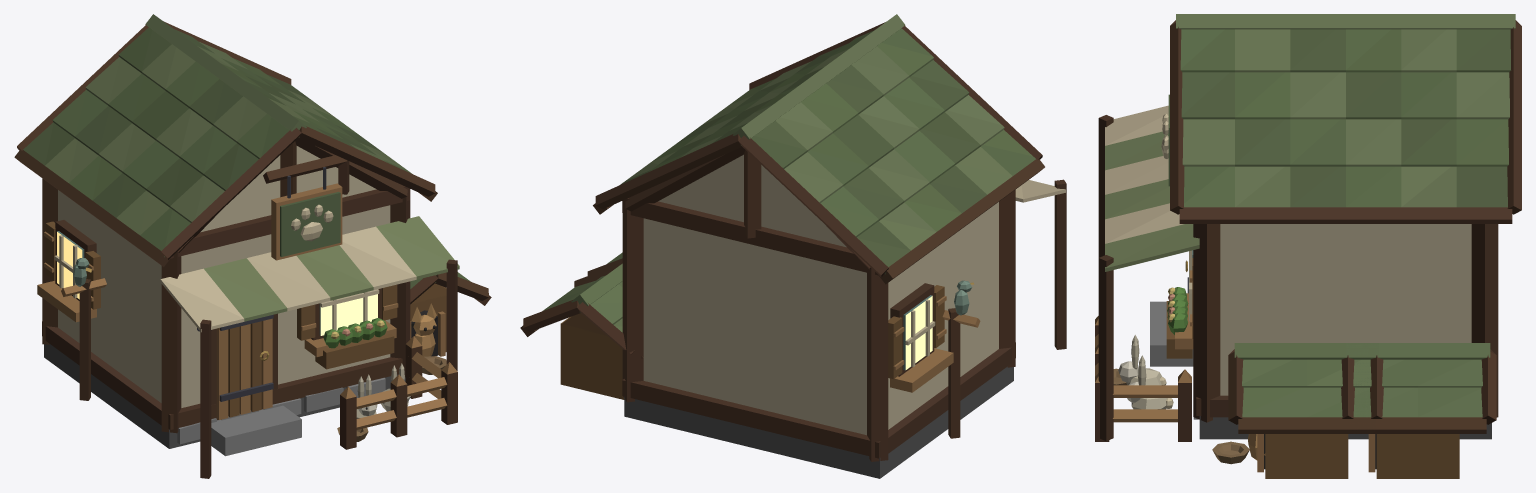
The model's file is town_pet_shop_a.glb.
3 renders of one model, left to right at view 1: azimuth 30°, elevation 25°; view 2: azimuth 150°, elevation 25°; view 3: azimuth 270°, elevation 25°, orthographic. The views are drawn at different scales.
Parts seen in each view (by area): view 1: town_pet_shop_a; view 2: town_pet_shop_a; view 3: town_pet_shop_a.
Boxes of the visible parts, x1,y1,x2,y2 form: town_pet_shop_a: [14, 14, 491, 478]; town_pet_shop_a: [520, 14, 1066, 478]; town_pet_shop_a: [1095, 14, 1521, 478].
Bounding box in the file's own units: 4.26 × 3.33 × 3.61.
